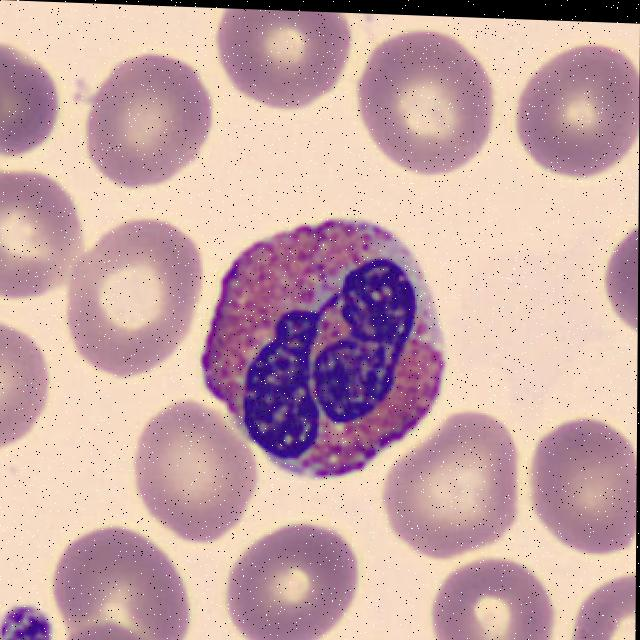eosinophil: (197, 207, 452, 476)
platelets: (1, 597, 53, 640)
rbc: (68, 213, 213, 383), (354, 22, 499, 186), (130, 391, 263, 547), (389, 405, 524, 558), (85, 42, 219, 194), (218, 514, 367, 640), (511, 42, 640, 184), (47, 520, 183, 640), (207, 8, 352, 120), (530, 408, 637, 553), (0, 154, 91, 297), (429, 547, 557, 640), (0, 45, 67, 162), (586, 204, 639, 347), (0, 315, 53, 452), (565, 552, 636, 640), (63, 612, 151, 640), (337, 619, 423, 640)
